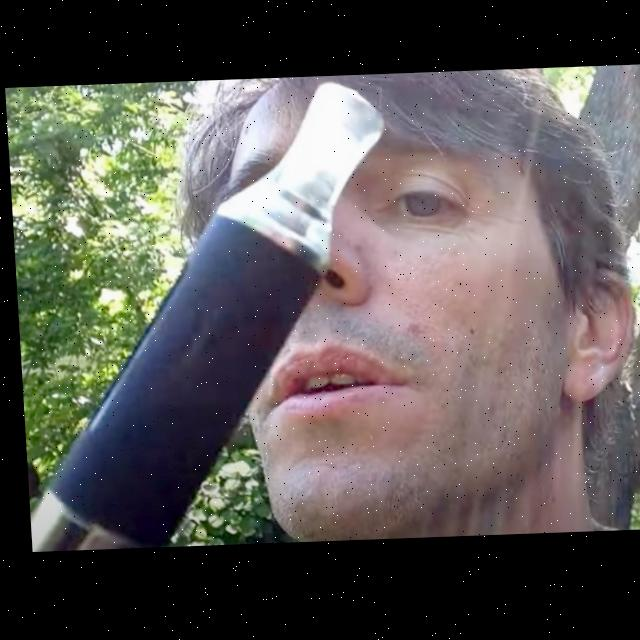vape: (5, 85, 403, 552)
